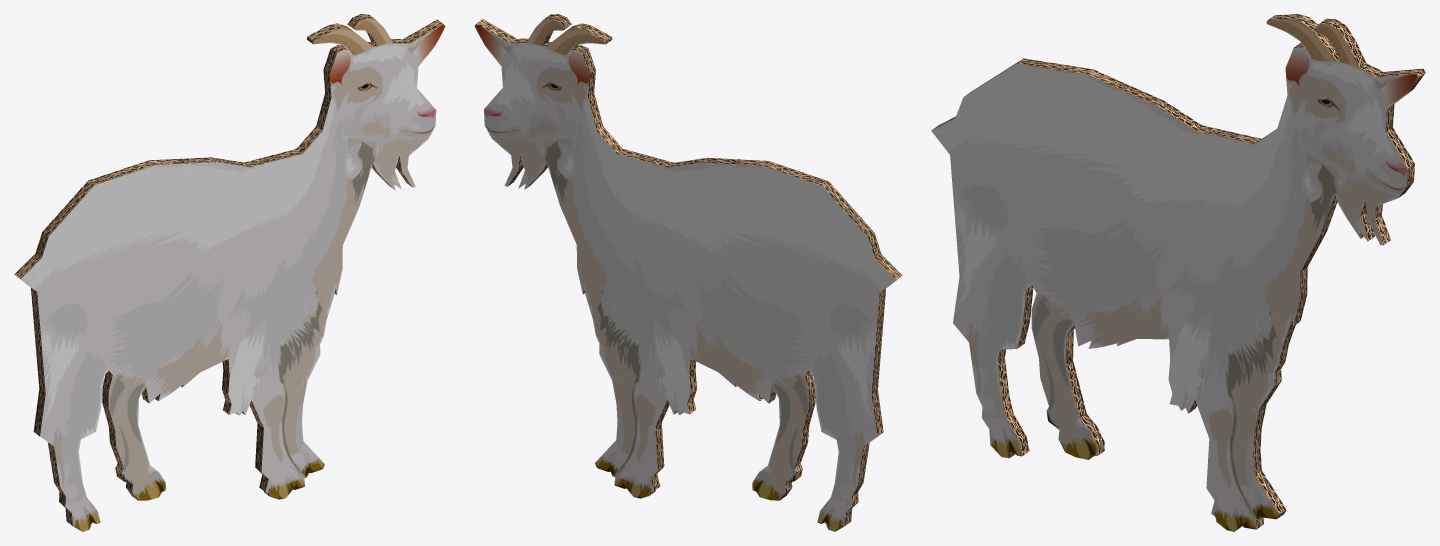
Rendered from Goat.obj.
The picture shows the model from 3 angles, left to right: view 1: azimuth 30°, elevation 25°; view 2: azimuth 150°, elevation 25°; view 3: azimuth 330°, elevation 25°; orthographic projection. The views are drawn at different scales.
Parts seen in each view (by area): view 1: Plane_Plane.003; view 2: Plane_Plane.003; view 3: Plane_Plane.003.
Boxes of the visible parts, x1,y1,x2,y2 form: Plane_Plane.003: (14, 14, 445, 531); Plane_Plane.003: (474, 14, 902, 531); Plane_Plane.003: (931, 14, 1425, 531).
Bounding box in the file's own units: 3.44 × 3.57 × 0.1113.
